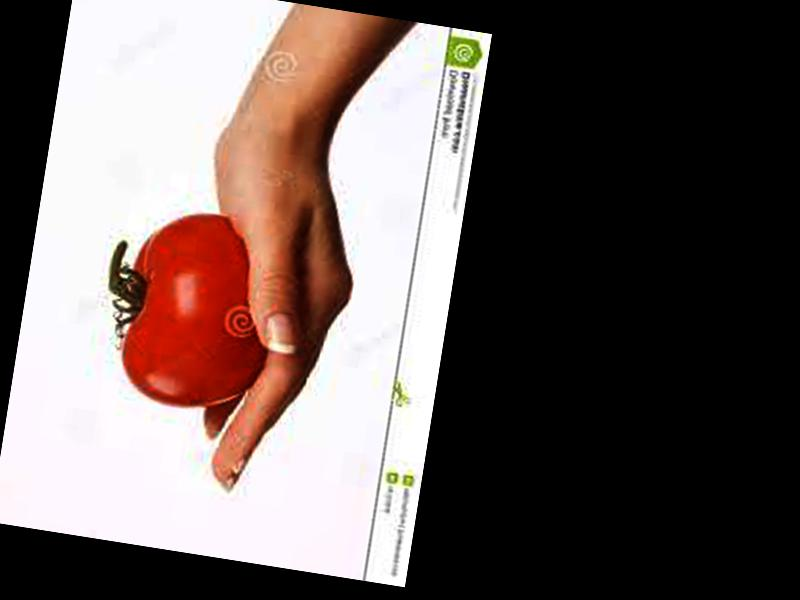Tomato: (114, 203, 285, 418)
